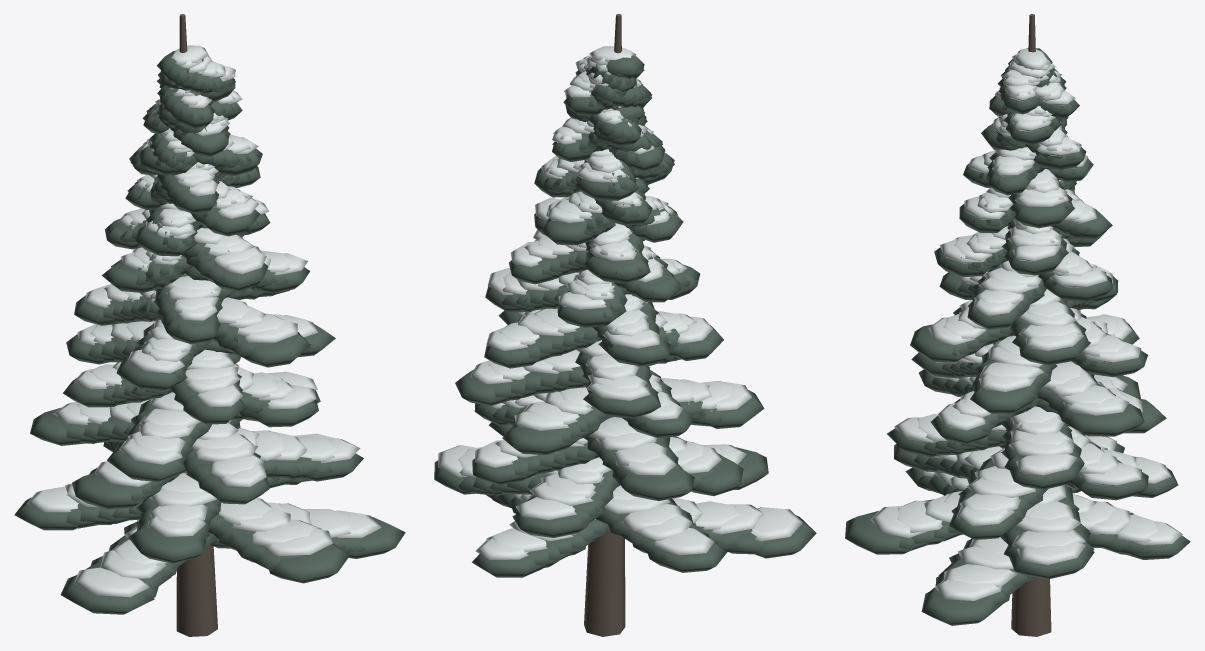
Rendered from SnowPine3.glb.
3 views of the same model, side by side, from view 1: azimuth 30°, elevation 25°; view 2: azimuth 150°, elevation 25°; view 3: azimuth 270°, elevation 25° (orthographic).
Bounding box in the file's own units: 1.98 × 3.5 × 1.81.
